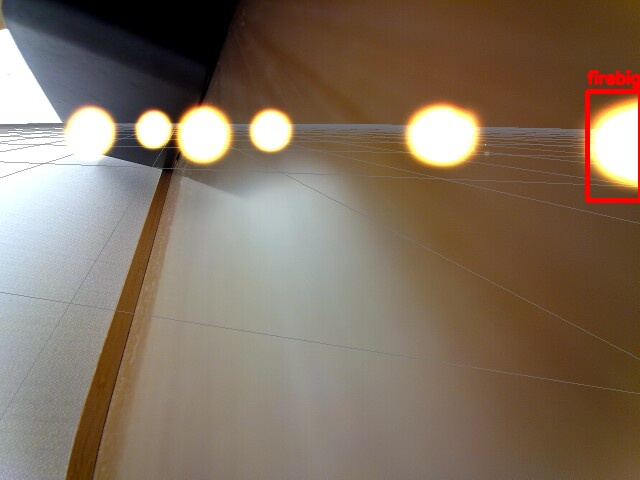firebig: (587, 91, 640, 200)
